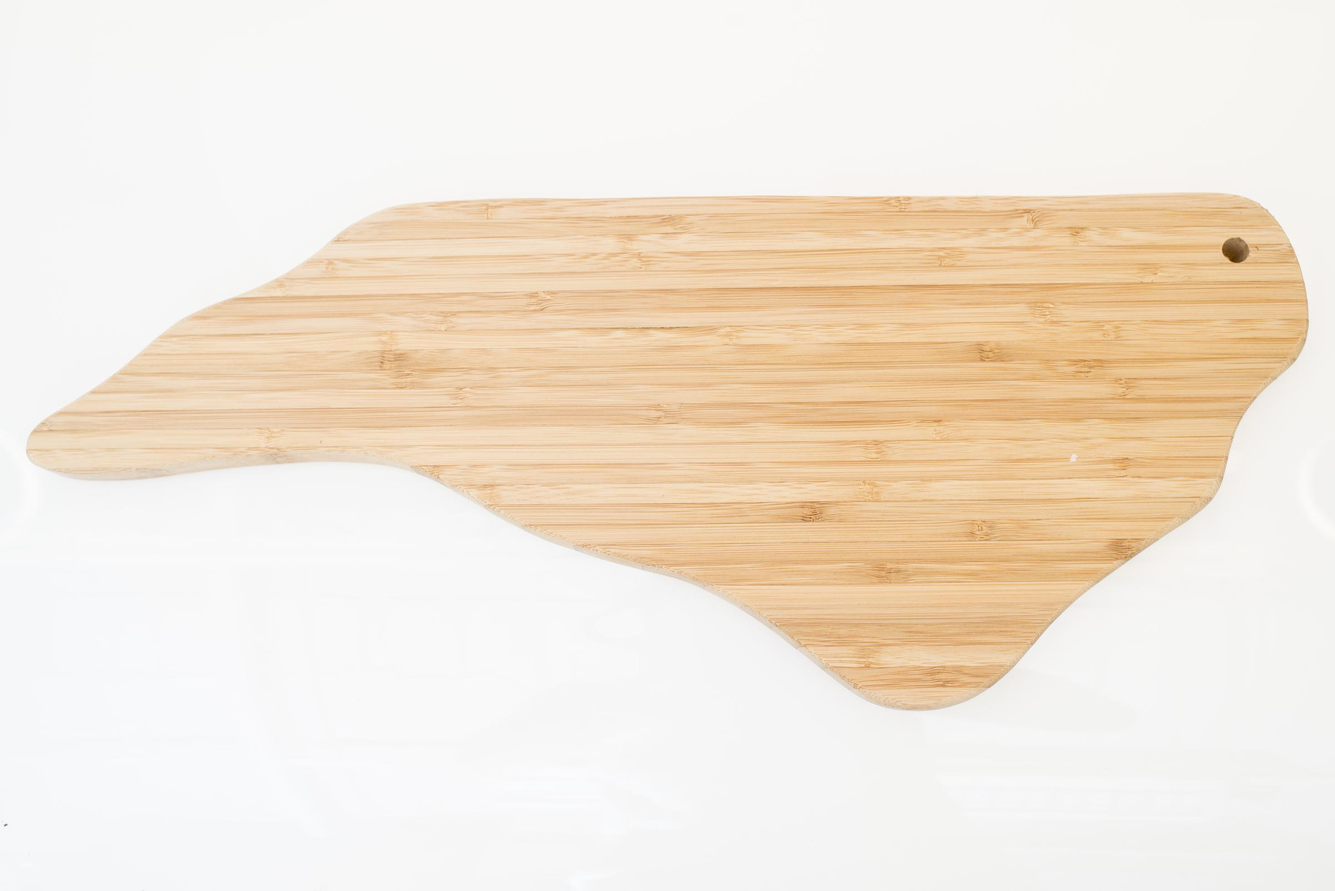gloved_hand: (21, 184, 1313, 718)
